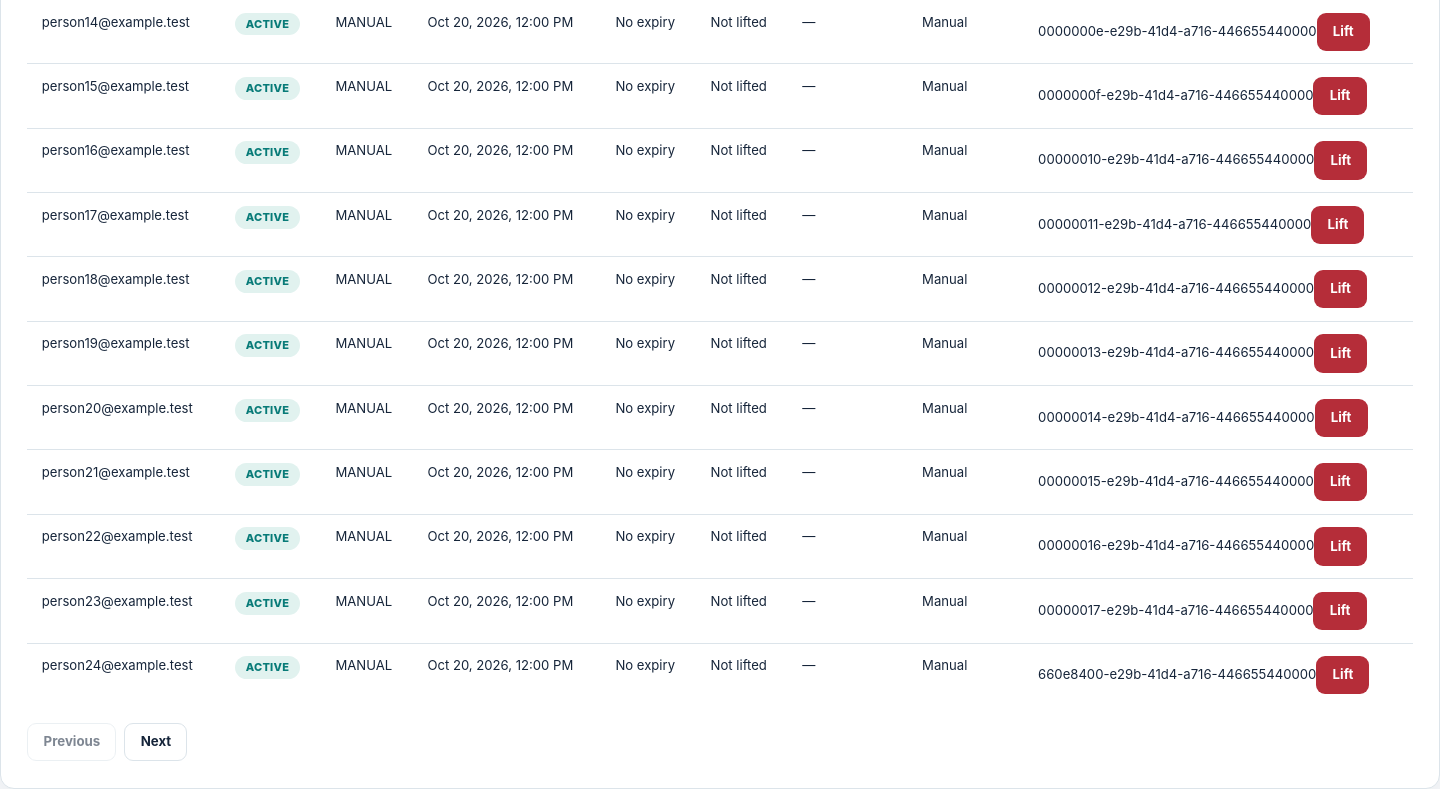
Test: SuppressionsPage › loads UUID-keyset pages and displays active, lifted, and expired records
(page scrolled)
Click the button "Next".
click(156, 742)  # box top-left (124, 723), bottom-right (187, 761)
(page scrolled)
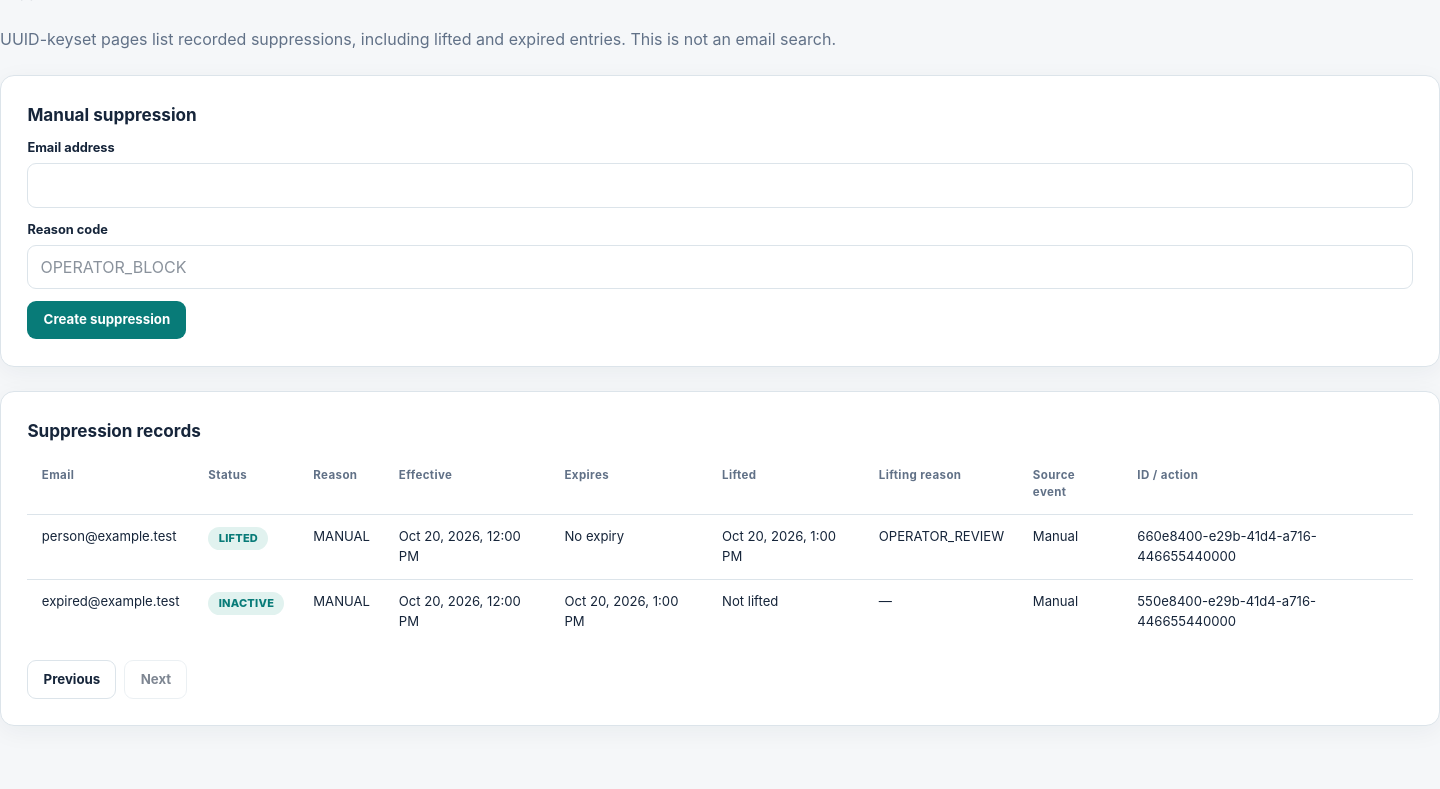
Result: the text "expired@example.test" is shown at top-left (27, 579), bottom-right (194, 644)
Result: the text "INACTIVE" is shown at top-left (208, 592), bottom-right (284, 615)
Result: the text "OPERATOR_REVIEW" is shown at top-left (864, 514), bottom-right (1018, 579)
